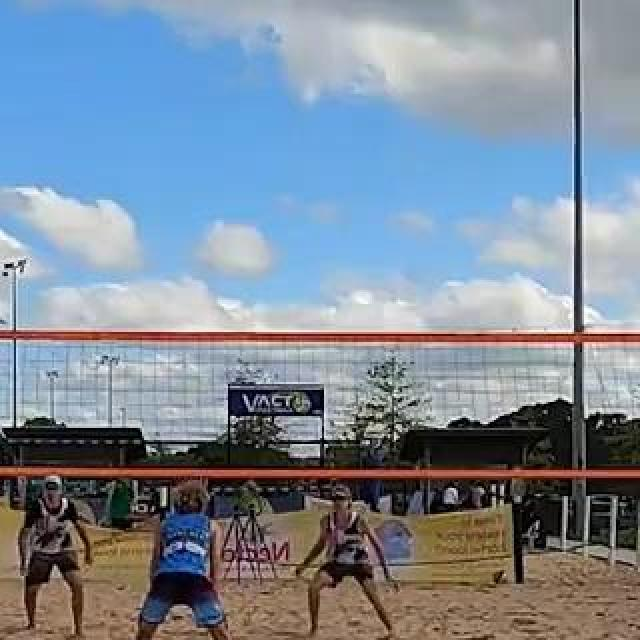volleyball: (493, 569, 509, 585)
